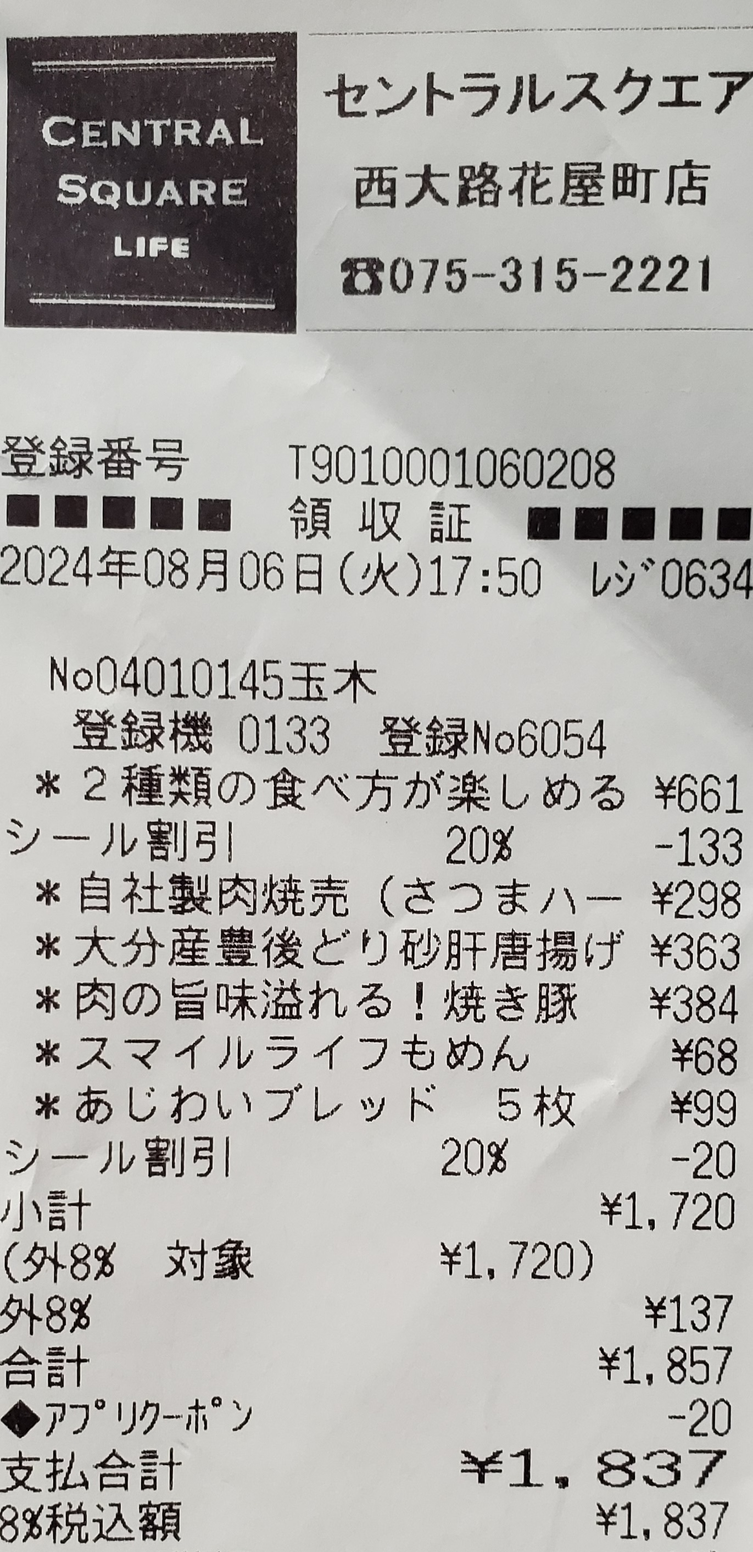Date: (1, 1437, 739, 1498), (4, 539, 337, 601)
Shopname: (311, 56, 753, 127)
Telnum: (384, 248, 726, 303)
